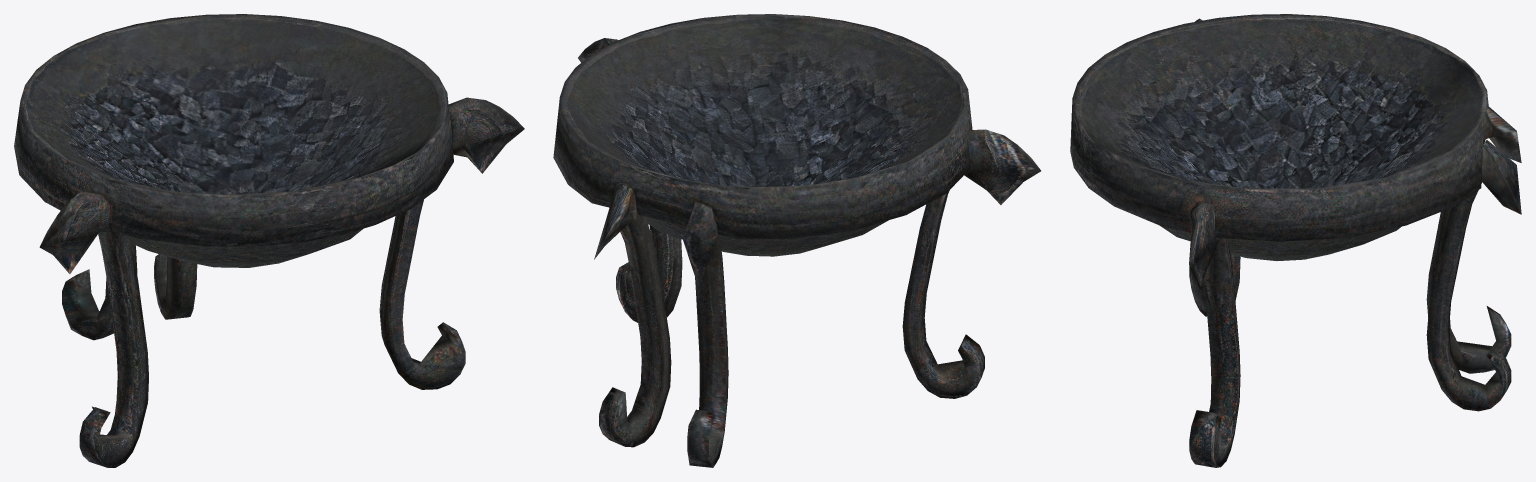
File: braciere.glb
The picture shows the model from 3 angles, left to right: view 1: azimuth 30°, elevation 25°; view 2: azimuth 150°, elevation 25°; view 3: azimuth 270°, elevation 25°; orthographic projection. The views are drawn at different scales.
Parts seen in each view (by area): view 1: braciere; view 2: braciere; view 3: braciere.
Part boxes in pixels (box(x1,y1,x2,y2)): braciere: box(14, 14, 524, 467); braciere: box(553, 14, 1040, 467); braciere: box(1070, 14, 1521, 467).
Size of the model in its own units: 0.9995 by 0.5776 by 0.8286.
Materials: 1 (1 with a texture image).
